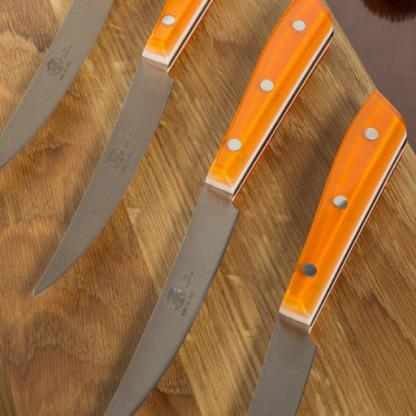knife: (87, 0, 335, 415), (162, 87, 412, 414), (34, 0, 266, 300), (0, 0, 210, 191)
